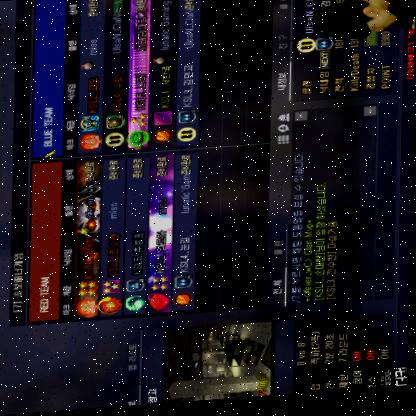streamer: (312, 0, 416, 47)
